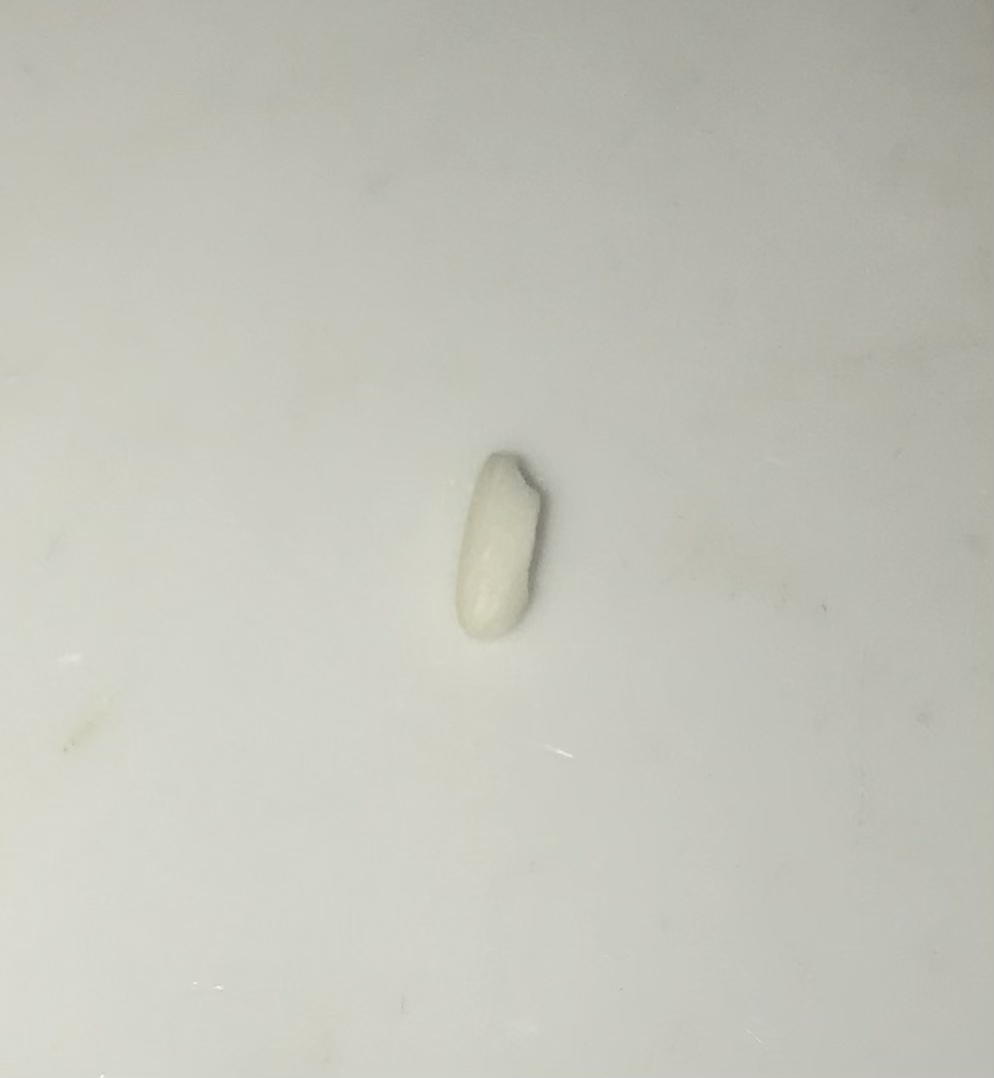Gao Nep Sap: (444, 428, 555, 662)
